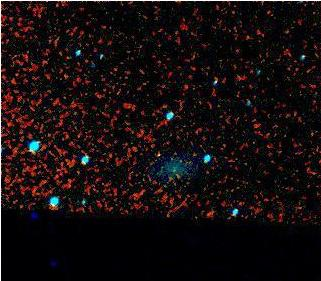star: (164, 144, 194, 174)
